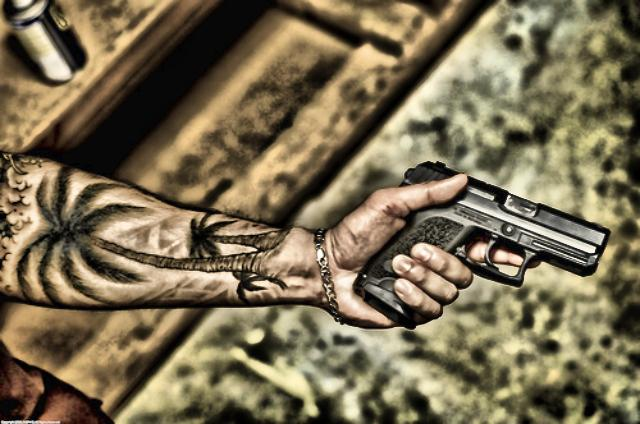pistol: (348, 160, 610, 322)
